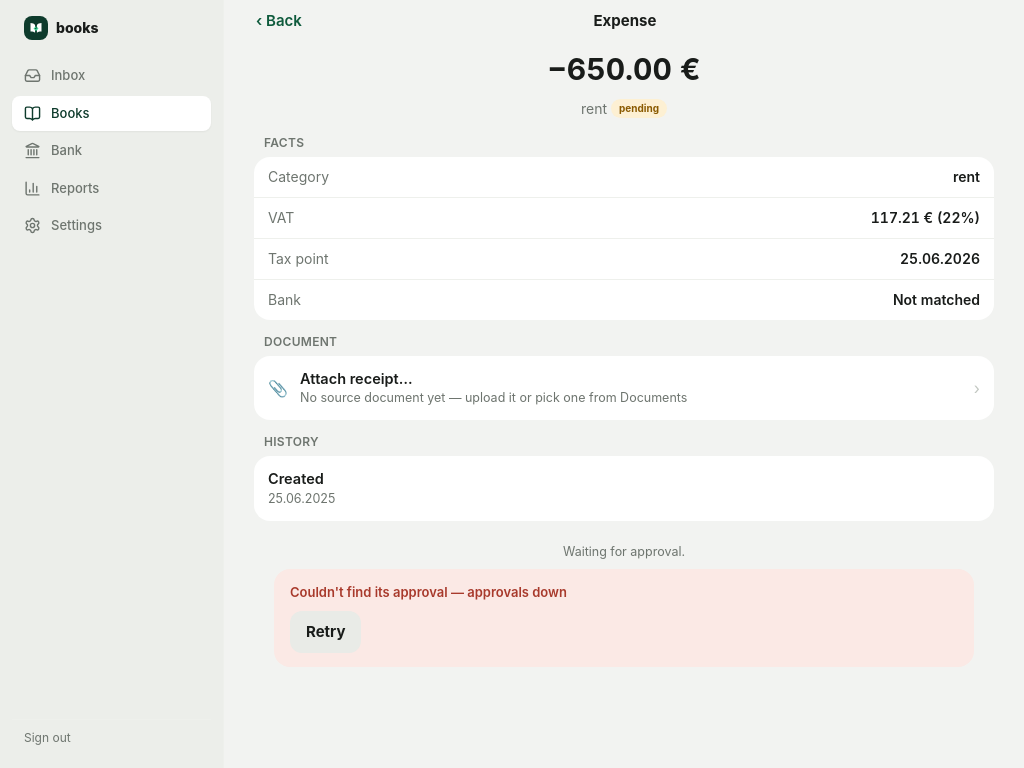
Test: pending Books record → its own approval (#262) › initial failure: stated with Retry, no link, no queue fallback; Retry recovers
The width and height of the screenshot is (1024, 768).
expect the text "Couldn't find its approval — approvals down" is shown: met, box [290,584,567,600]
expect the link "Open approval" is not shown: met
Click the button "Retry" at (326,632), box [290,611,362,653]
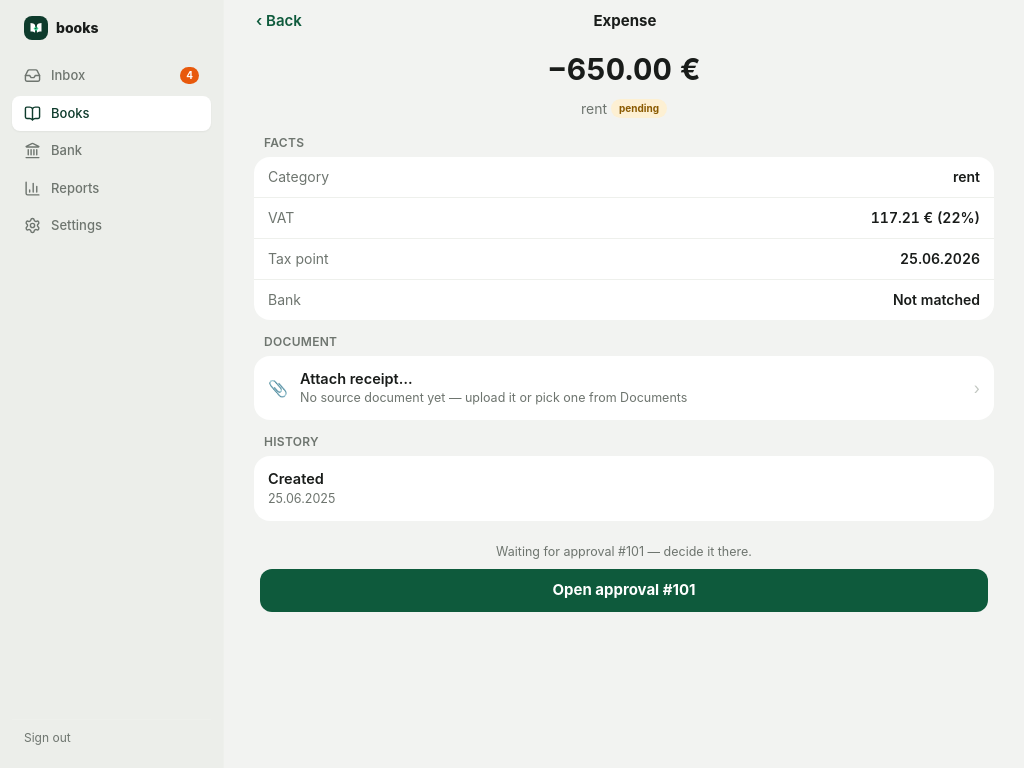
expect the link "Open approval #101" is shown: met, box [260,569,988,612]
